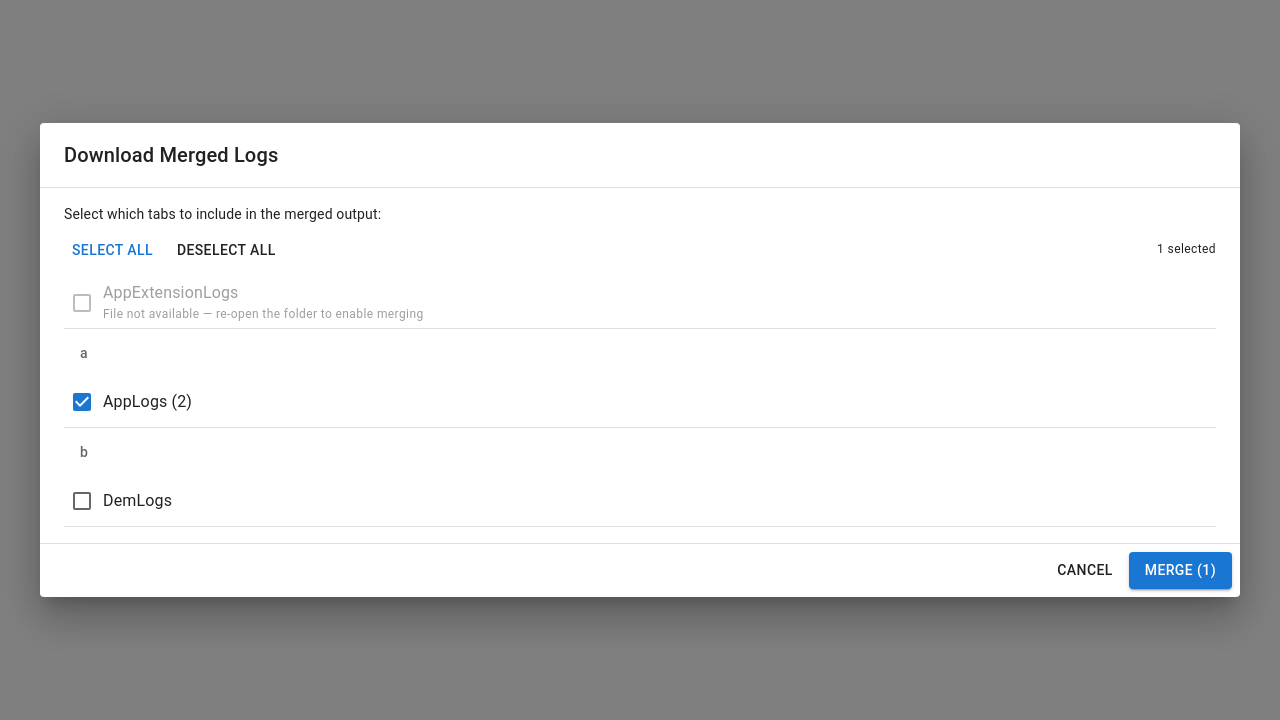
Scenario: bulk selection excludes unavailable sources and preserves confirmation order
The image size is (1280, 720).
Later steps or results of the test are not shown.
expect the checkbox labelled "AppExtensionLogs" is disabled: met, box [70,282,424,320]
expect the button "Merge (1)" is enabled: met, box [1129,552,1232,589]
Click the button "Deselect All". click: (226, 250)
box: [169,232,284,268]
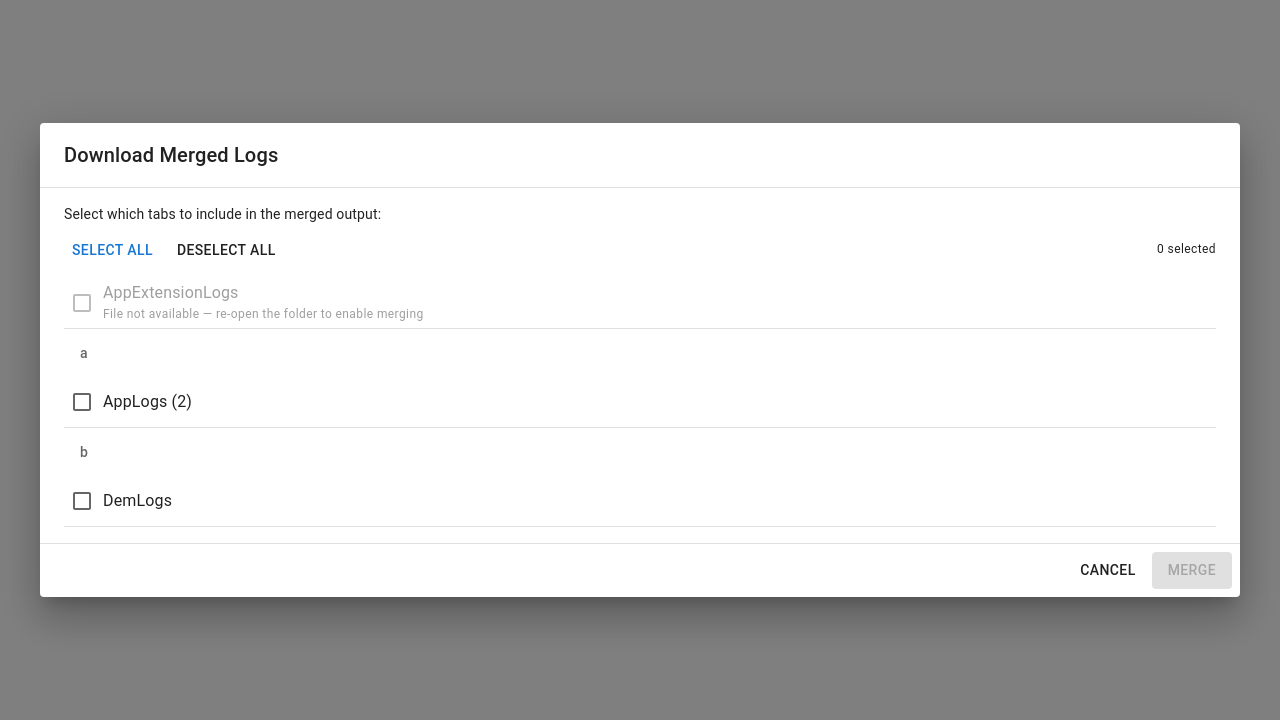
expect the button "Merge" is disabled: met, box [1152,552,1232,589]
